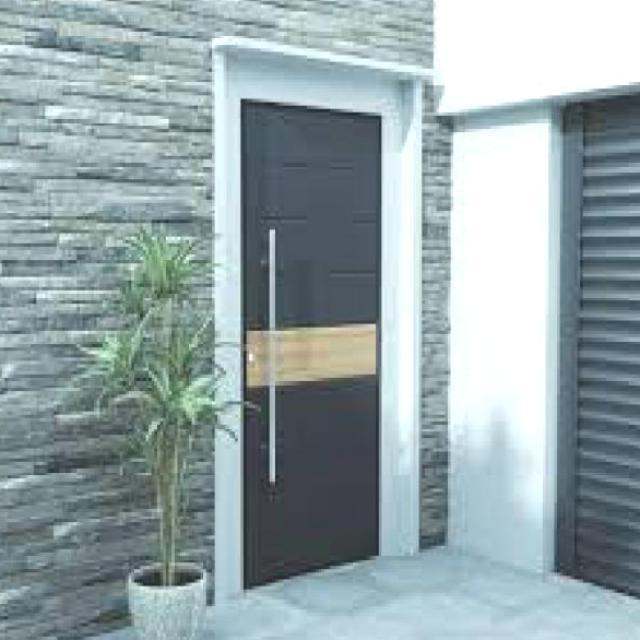door: (240, 99, 381, 589)
